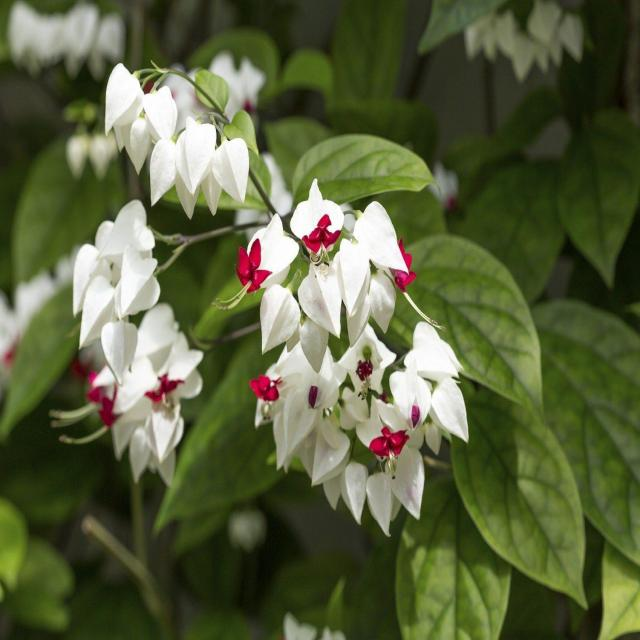organic waste: (248, 203, 464, 534), (77, 203, 196, 462), (106, 39, 273, 208)
